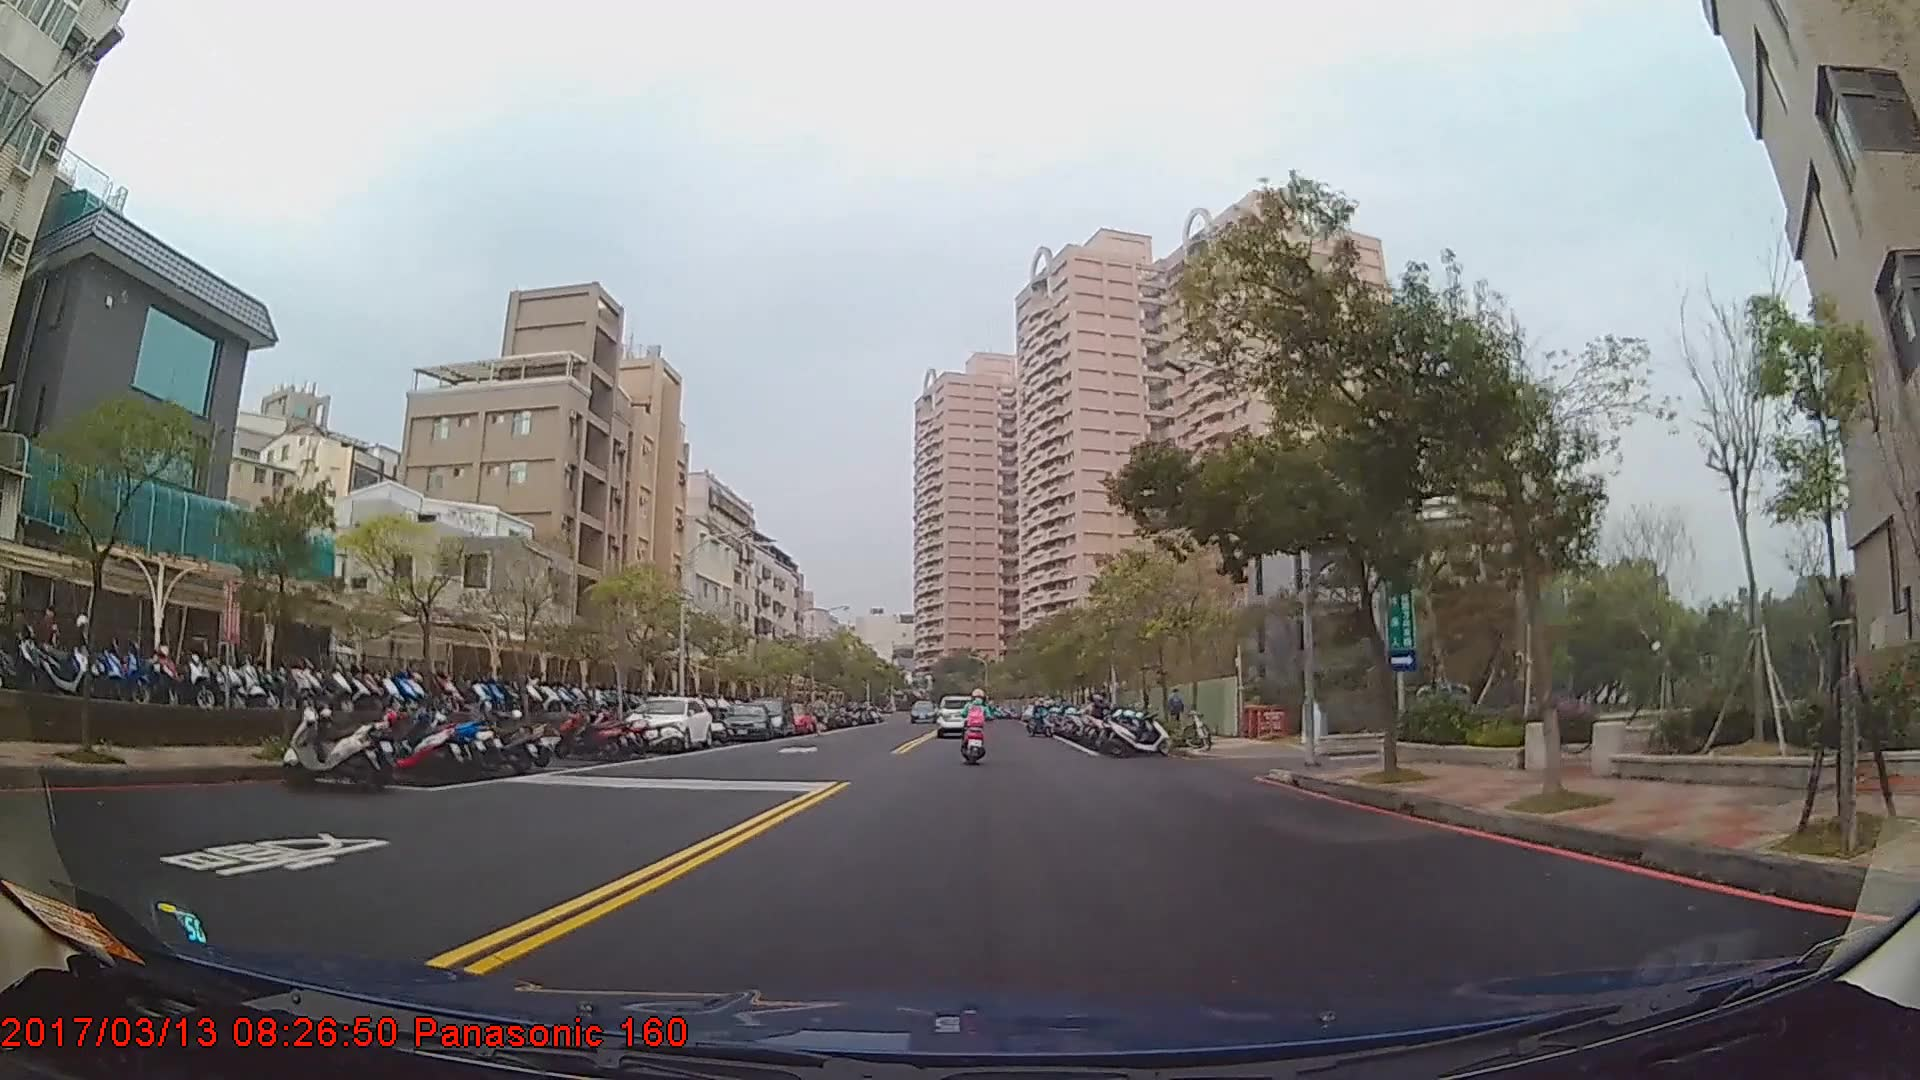pedestrian: (1167, 687, 1187, 736)
rider: (964, 684, 994, 758)
vehicle: (620, 693, 713, 749), (932, 691, 982, 736), (716, 701, 770, 742), (744, 694, 793, 738), (907, 698, 935, 722)
